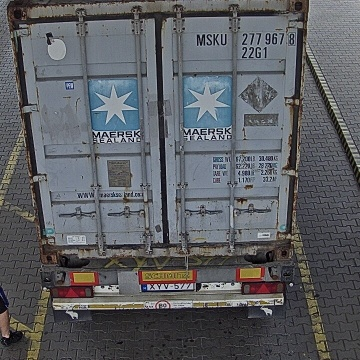serial_id: (197, 32, 296, 45)
